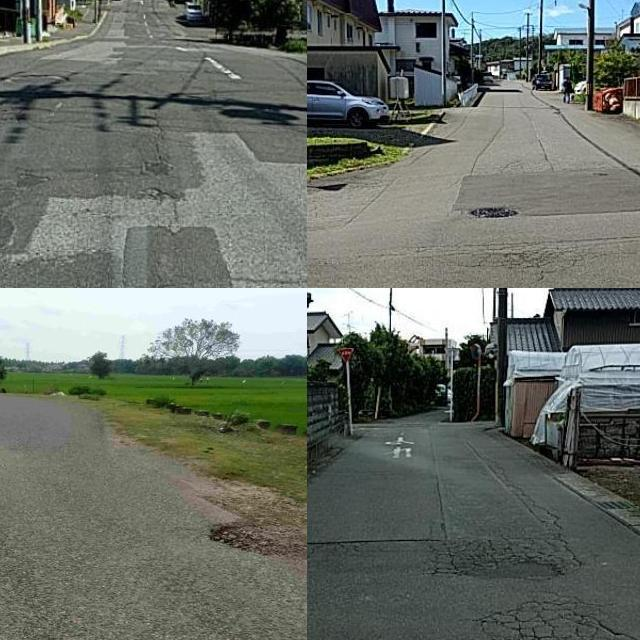Melintang: (307, 529, 444, 552)
Pinggir: (194, 505, 307, 568)
Retak Buaya: (475, 599, 609, 640)
Sambungan: (28, 132, 307, 288), (457, 161, 640, 220)
